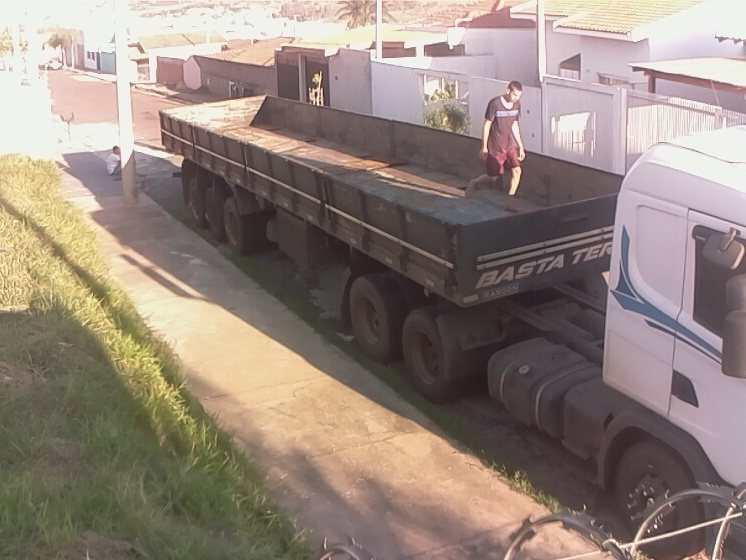person: (460, 78, 528, 216), (105, 144, 126, 180)
